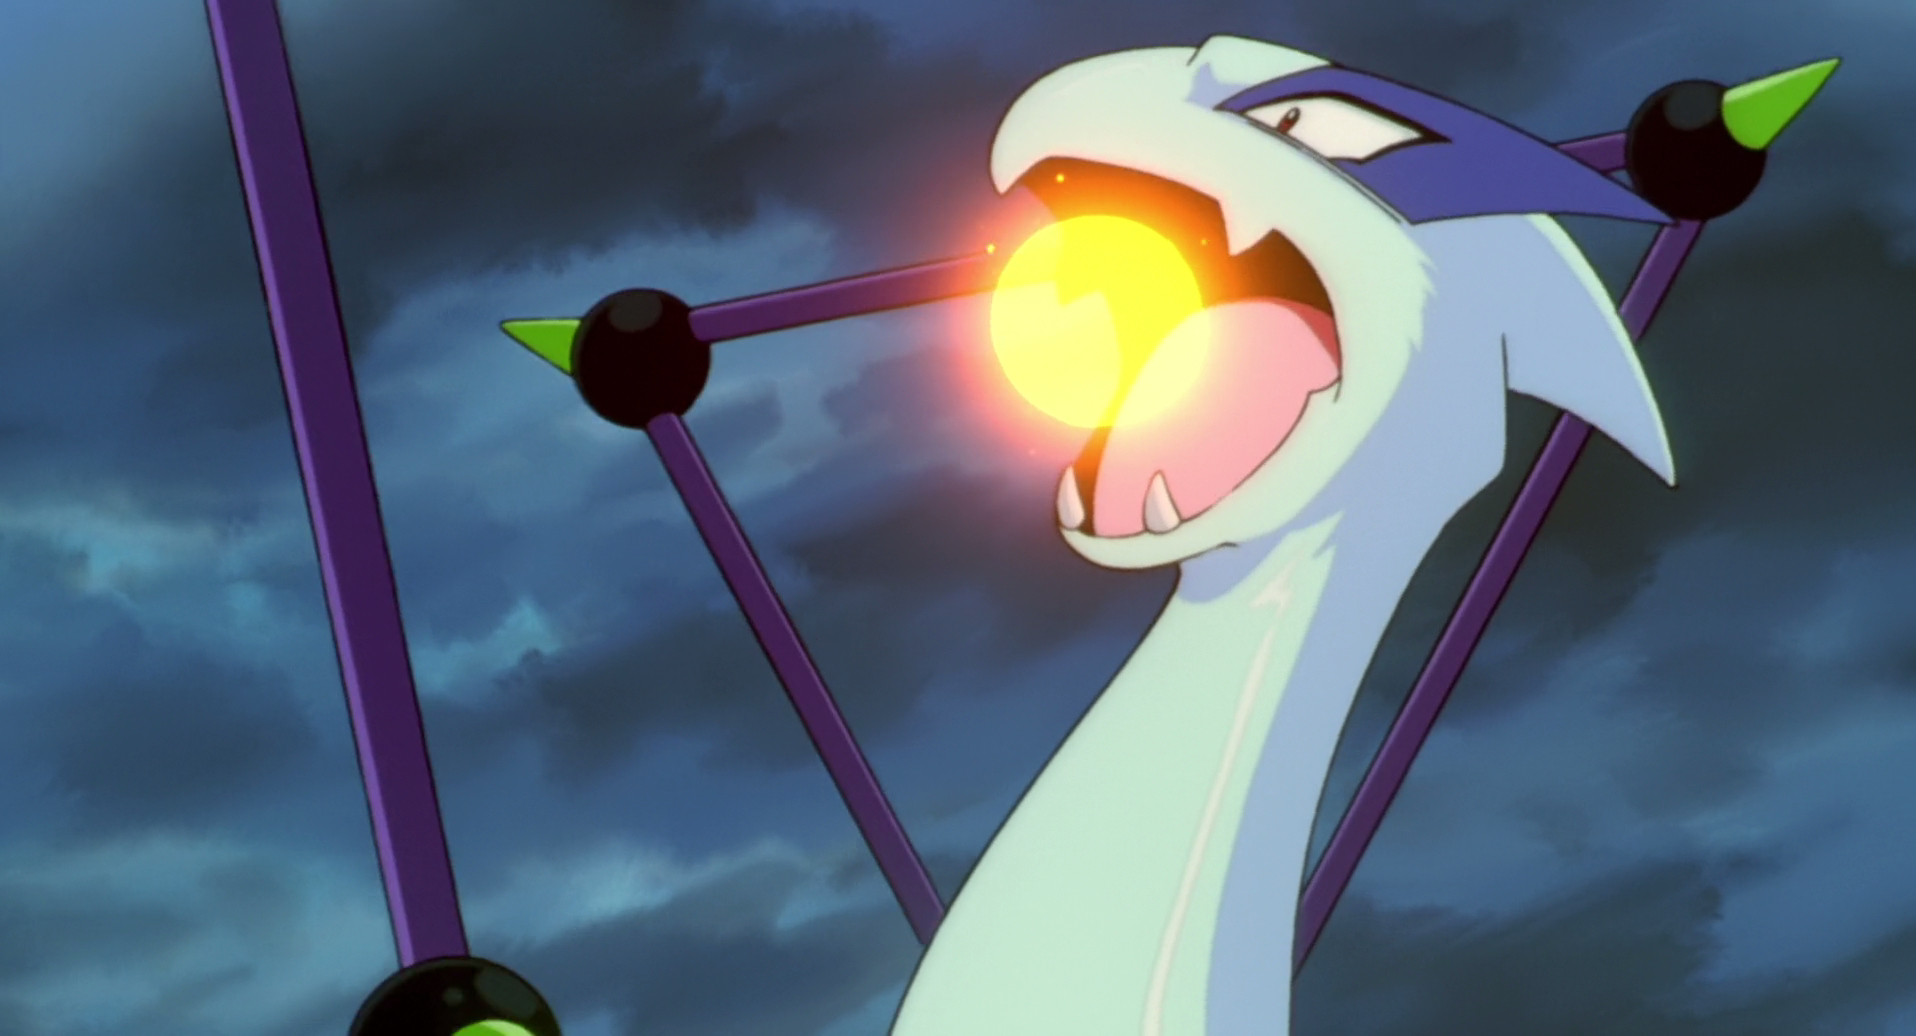lugia: (987, 38, 1677, 572)
